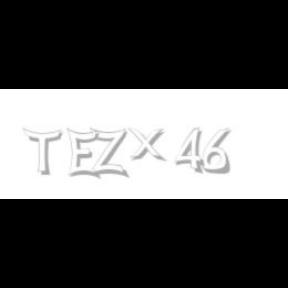4: (174, 128, 204, 174)
6: (202, 128, 230, 176)
E: (66, 128, 100, 180)
T: (22, 128, 62, 176)
Z: (90, 128, 128, 178)
x: (127, 128, 169, 162)
